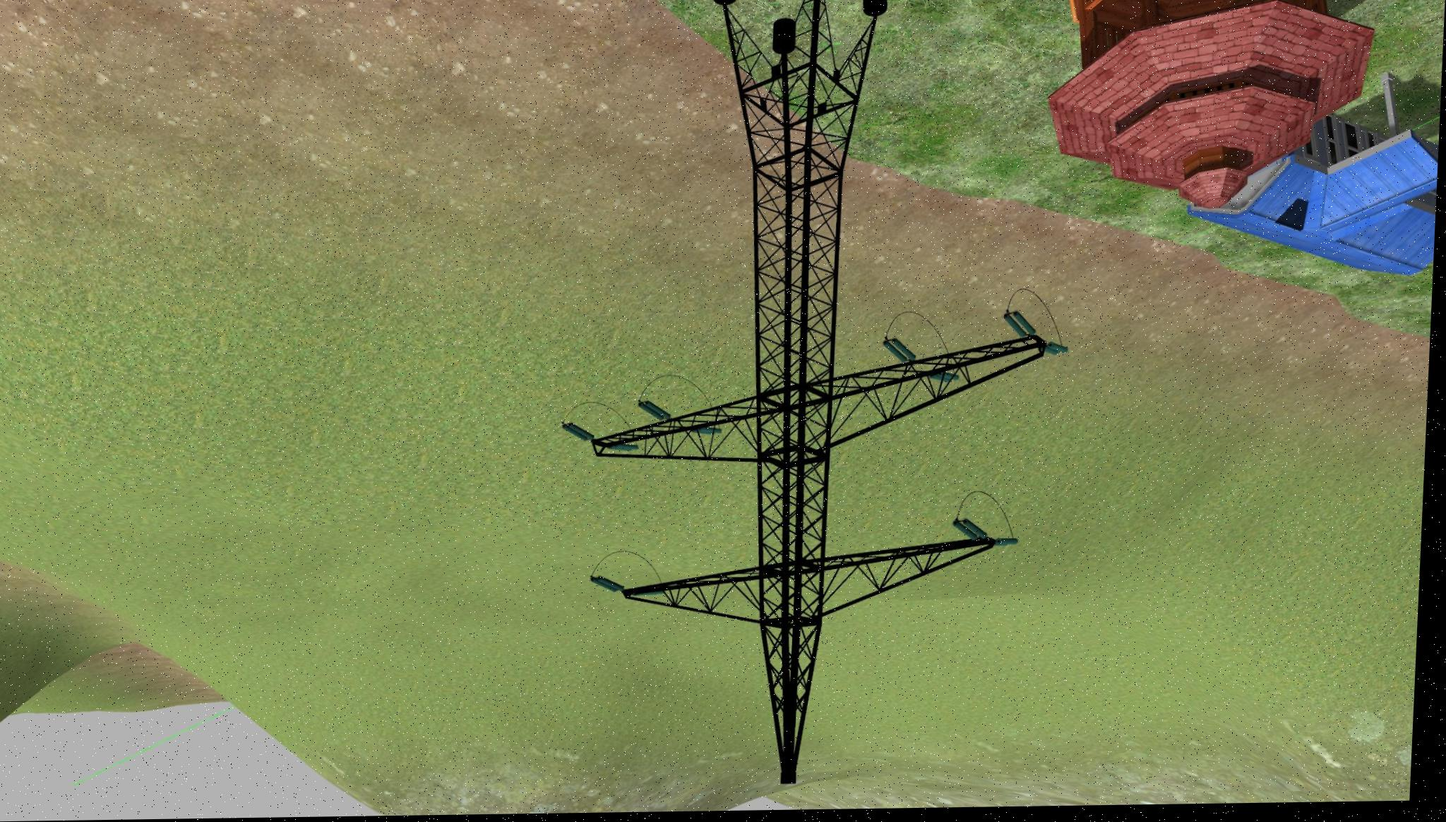tower: (569, 0, 1068, 793)
